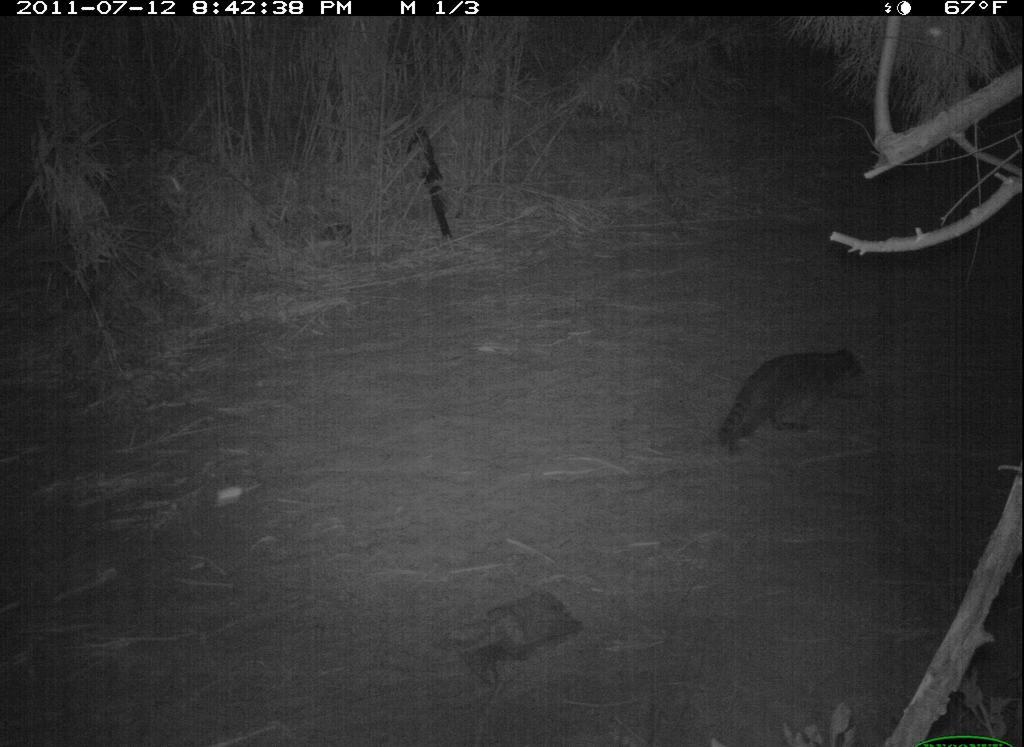raccoon: (706, 337, 876, 472)
